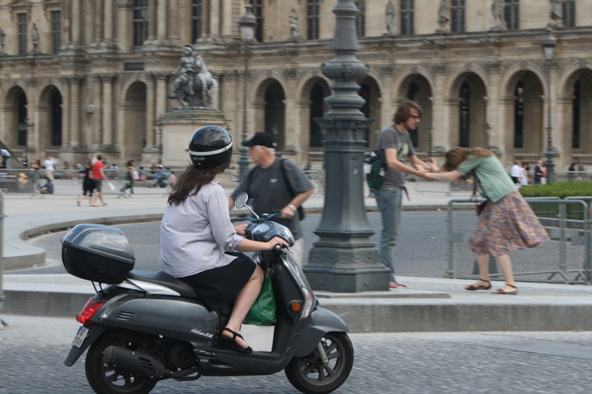helmet: (190, 127, 235, 175)
